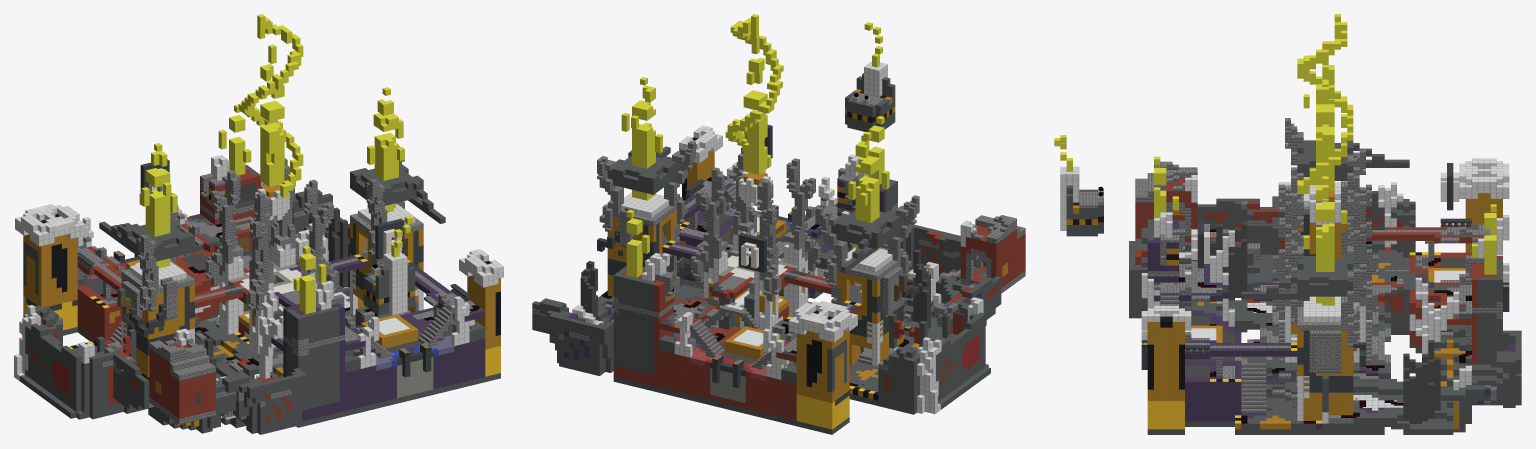
Rendered from minecraft.obj.
3 views of the same model, side by side, from view 1: azimuth 30°, elevation 25°; view 2: azimuth 150°, elevation 25°; view 3: azimuth 270°, elevation 25° (orthographic). The views are drawn at different scales.
Size of the model in its own units: 70 by 61 by 75.
